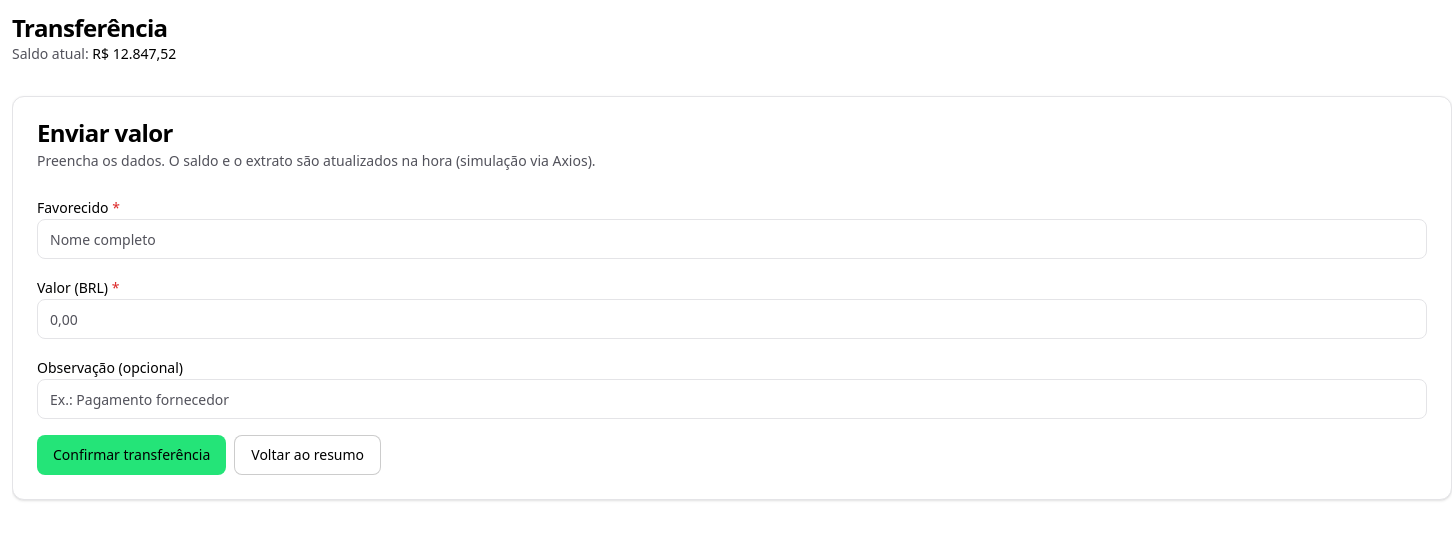
TransferPage › exige pelo menos dois caracteres no favorecido
Type "X" into the field labelled "Favorecido *" at x=732, y=239, box [37,219,1427,259]
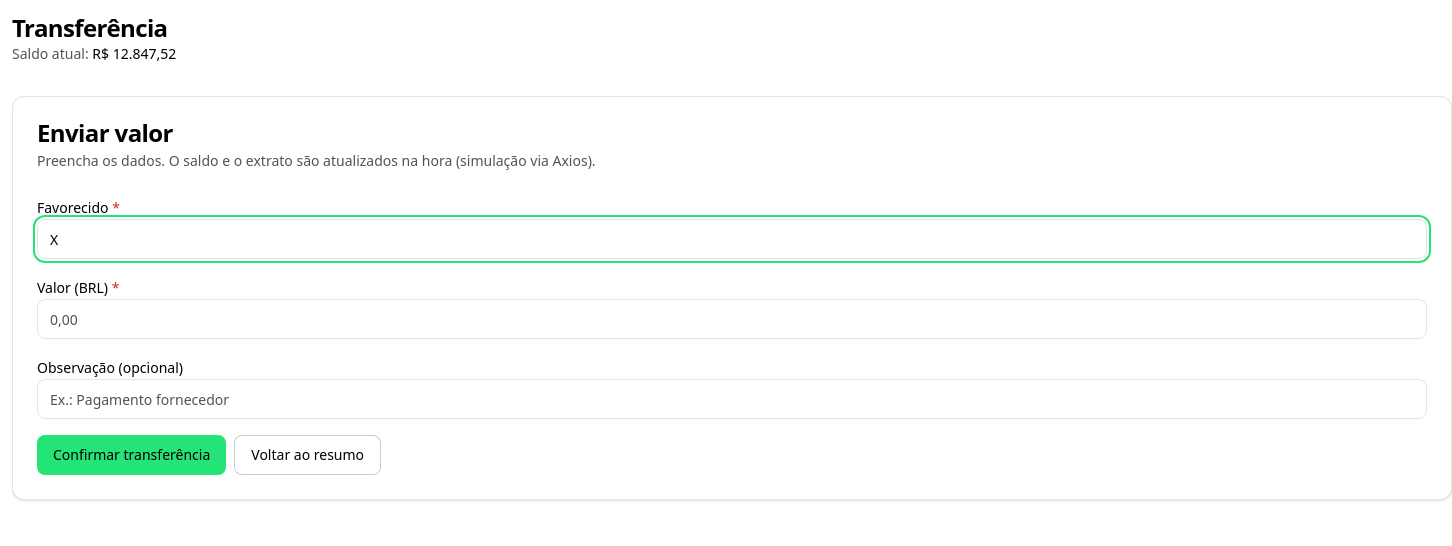
Type "100" into the field labelled "Valor (BRL) *" at x=732, y=319, box [37,299,1427,339]
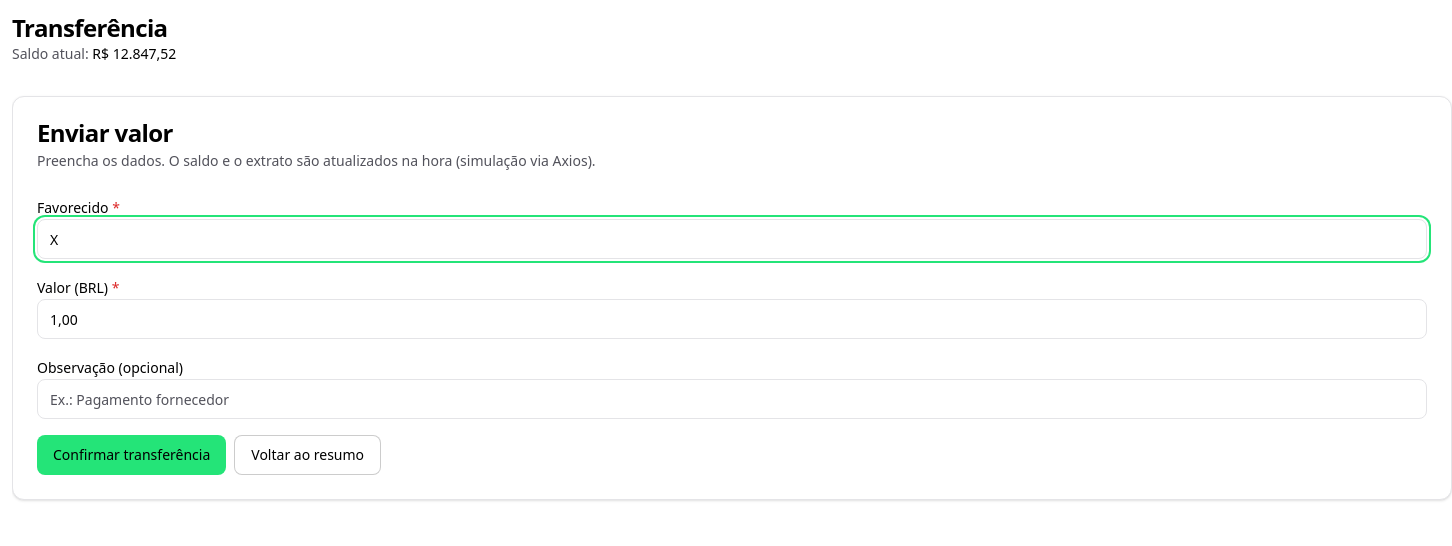
Click the button "Confirmar transferência" at x=132, y=455, box [37,435,226,475]
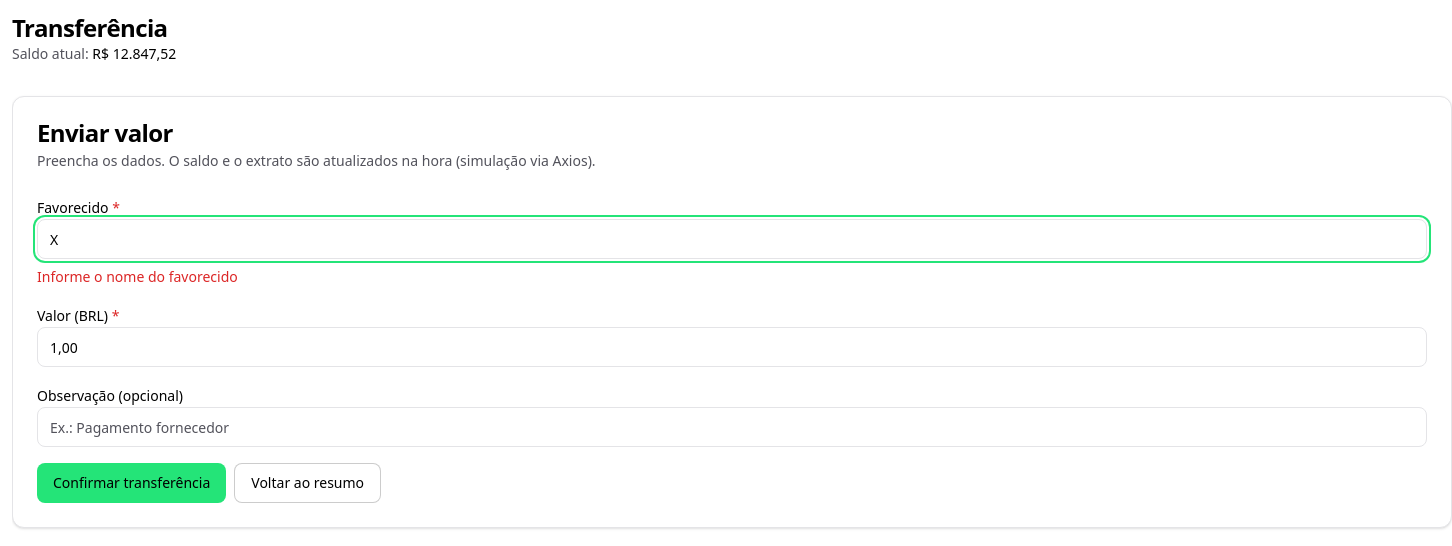
Check: the text "Informe o nome do favorecido" is shown, box [37,267,238,286]
